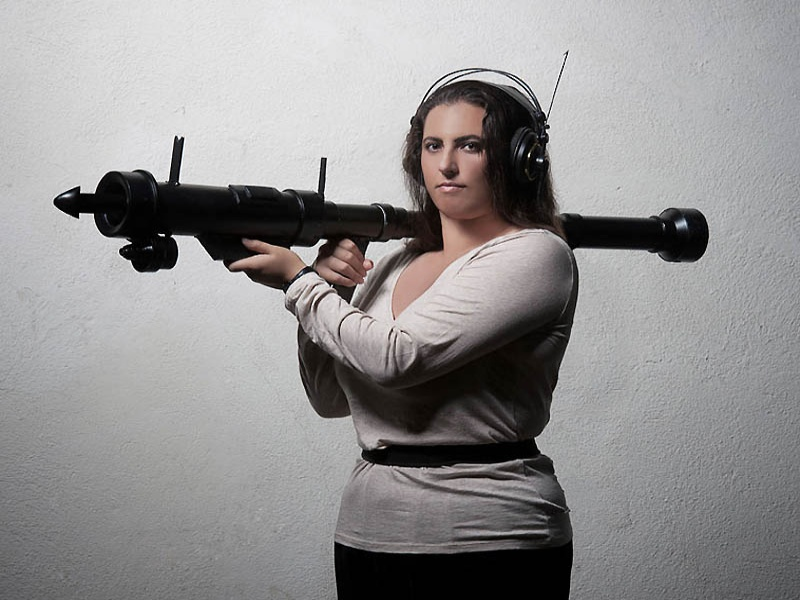person: (228, 81, 580, 600)
weapon: (52, 137, 709, 272)
